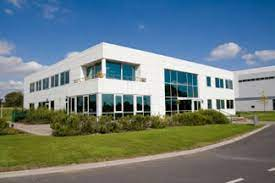Building House: (22, 44, 238, 127)
